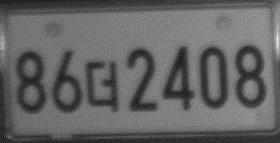0: (198, 46, 230, 109)
2: (126, 47, 158, 113)
4: (161, 44, 196, 111)
6: (50, 48, 84, 113)
8: (232, 45, 267, 109), (14, 50, 47, 114)
더: (85, 59, 120, 113)
